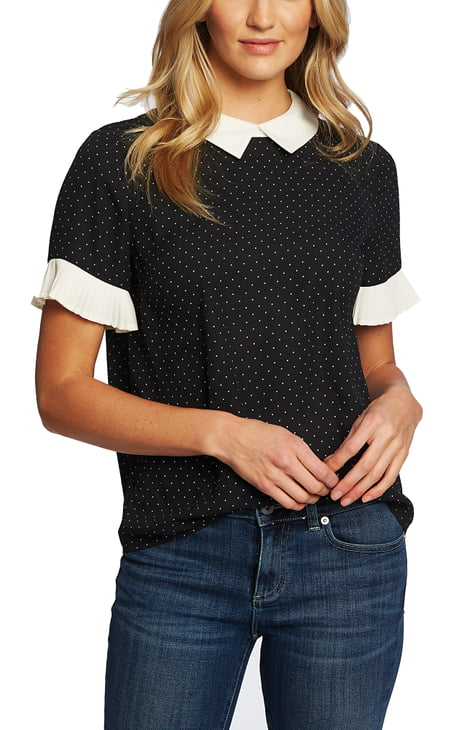C_jeans: (121, 520, 411, 724)
C_short blouse: (32, 101, 426, 517)
